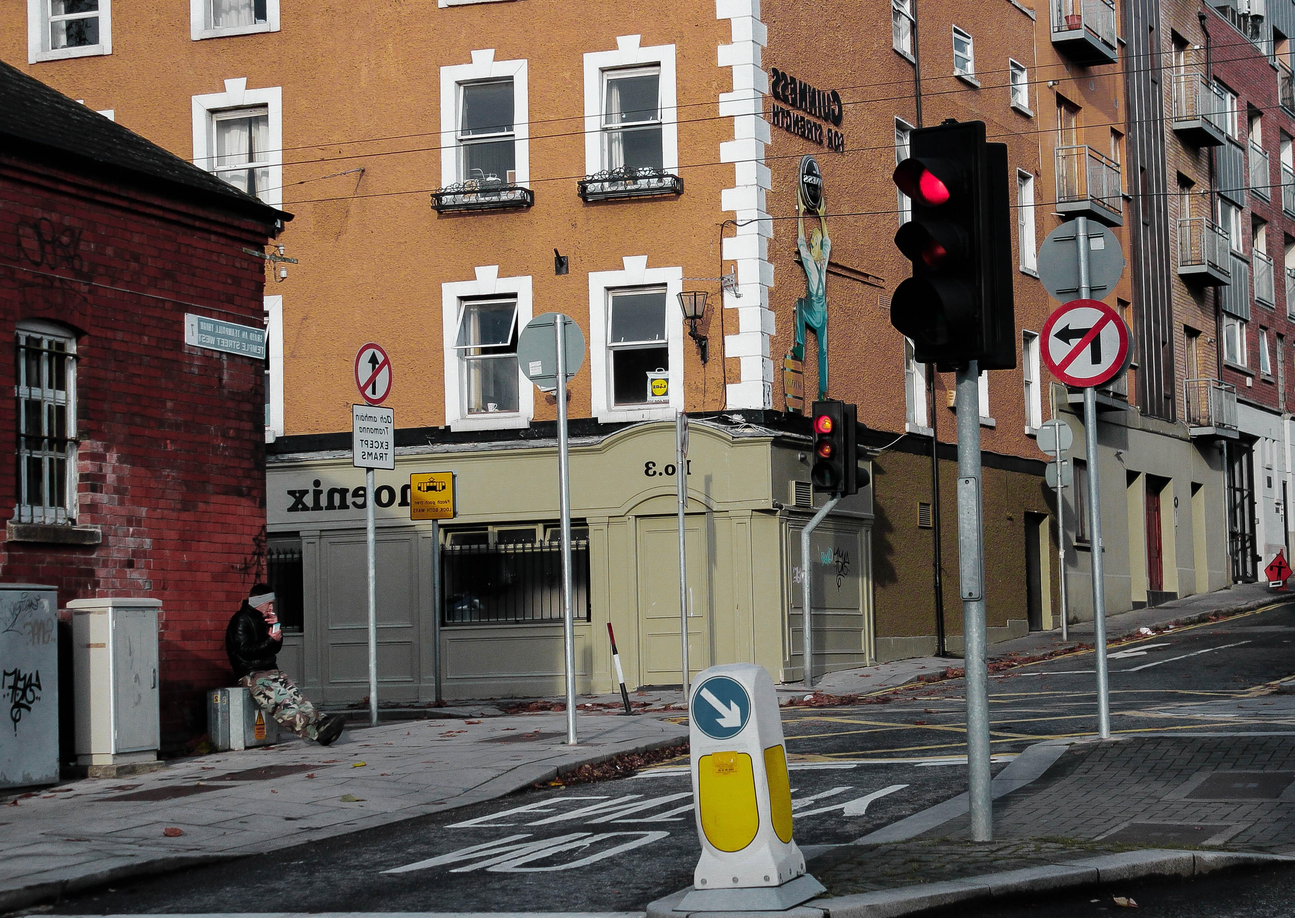red: (889, 129, 1032, 370)
